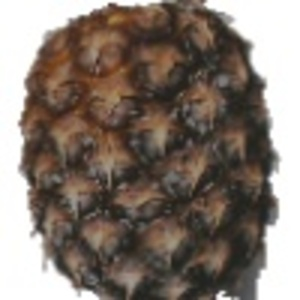abacaxi: (19, 2, 281, 298)
